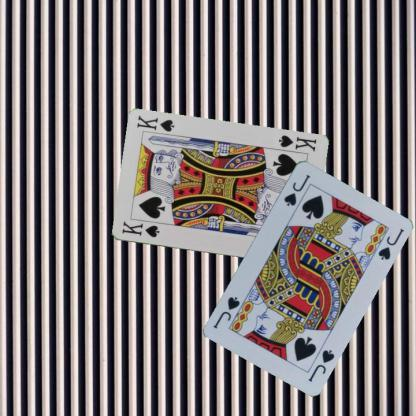Js: (305, 346, 336, 383), (281, 171, 311, 207)
Ks: (119, 219, 161, 239), (276, 133, 317, 153)
